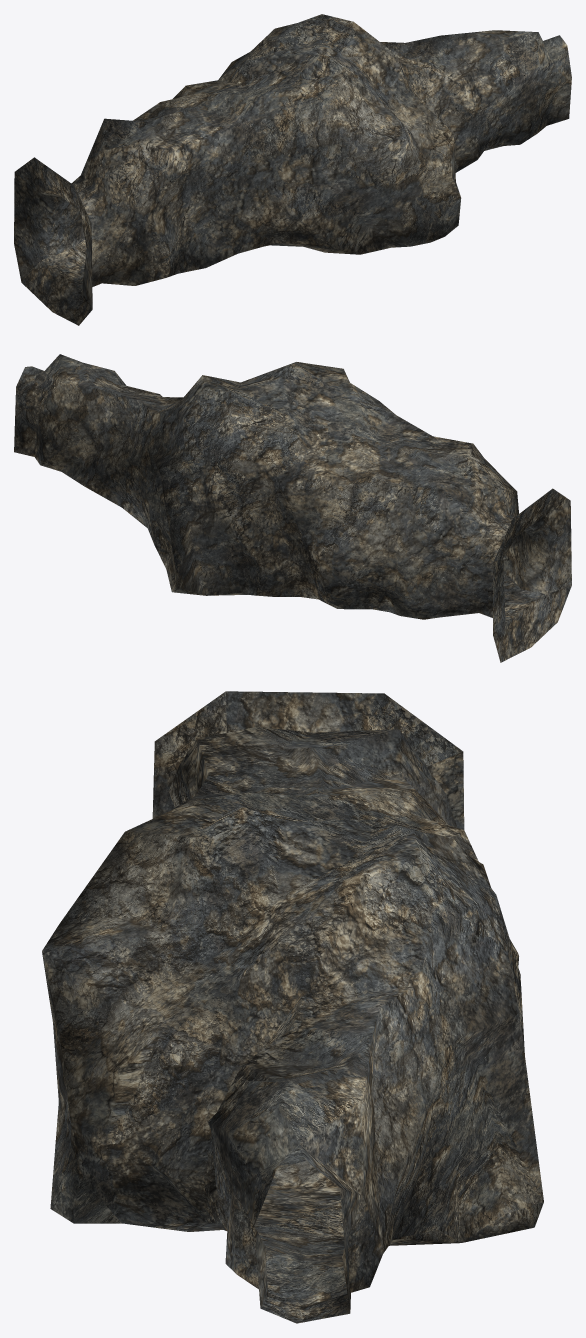
The model's file is Module22_LOD1.fbx.
3 renders of one model, top to bottom at view 1: azimuth 30°, elevation 25°; view 2: azimuth 150°, elevation 25°; view 3: azimuth 270°, elevation 25°, orthographic. The views are drawn at different scales.
Parts seen in each view (by area): view 1: cave_el22_1000_Group6360; view 2: cave_el22_1000_Group6360; view 3: cave_el22_1000_Group6360.
Boxes of the visible parts, left/top/right/bottom form: cave_el22_1000_Group6360: left=14, top=14, right=571, bottom=325; cave_el22_1000_Group6360: left=14, top=354, right=571, bottom=662; cave_el22_1000_Group6360: left=42, top=691, right=543, bottom=1323.
Bounding box in the file's own units: 29.14 × 11.45 × 12.51.
